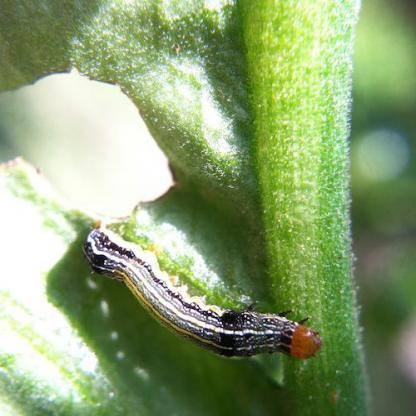armyworm: (81, 229, 327, 364)
